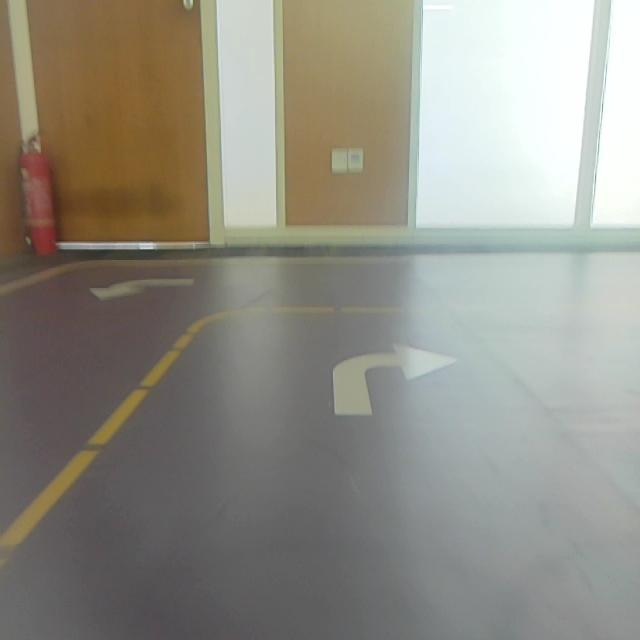left_lane: (1, 312, 207, 571)
